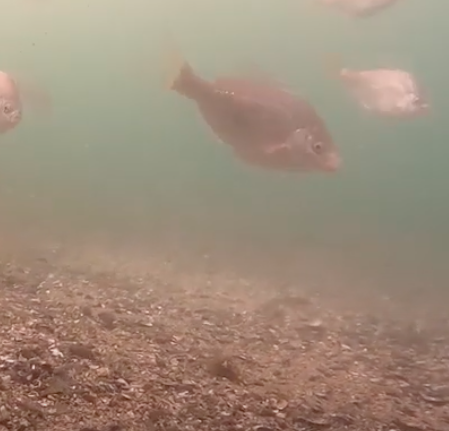smallfish: (160, 49, 346, 181)
